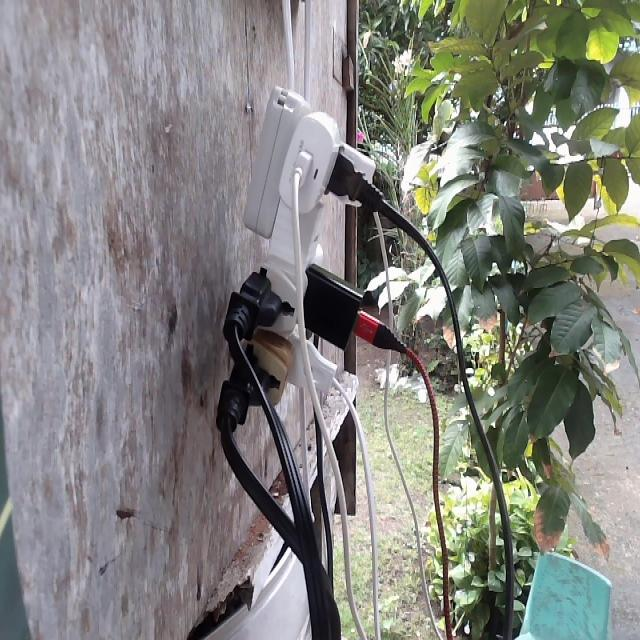-: (215, 87, 413, 444)
